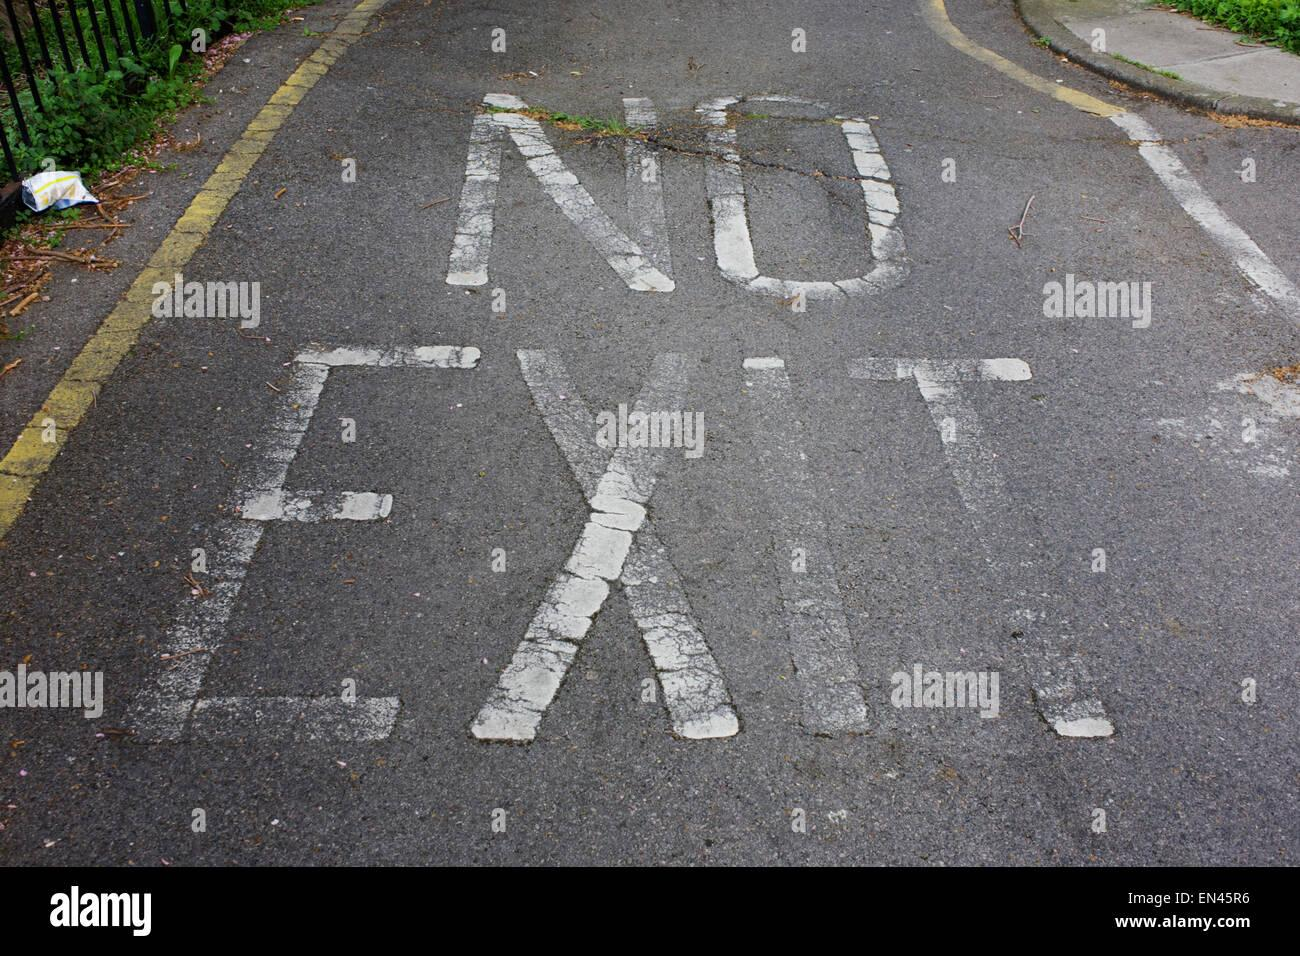faded_road_lines: (119, 341, 1130, 757), (450, 87, 922, 313)
